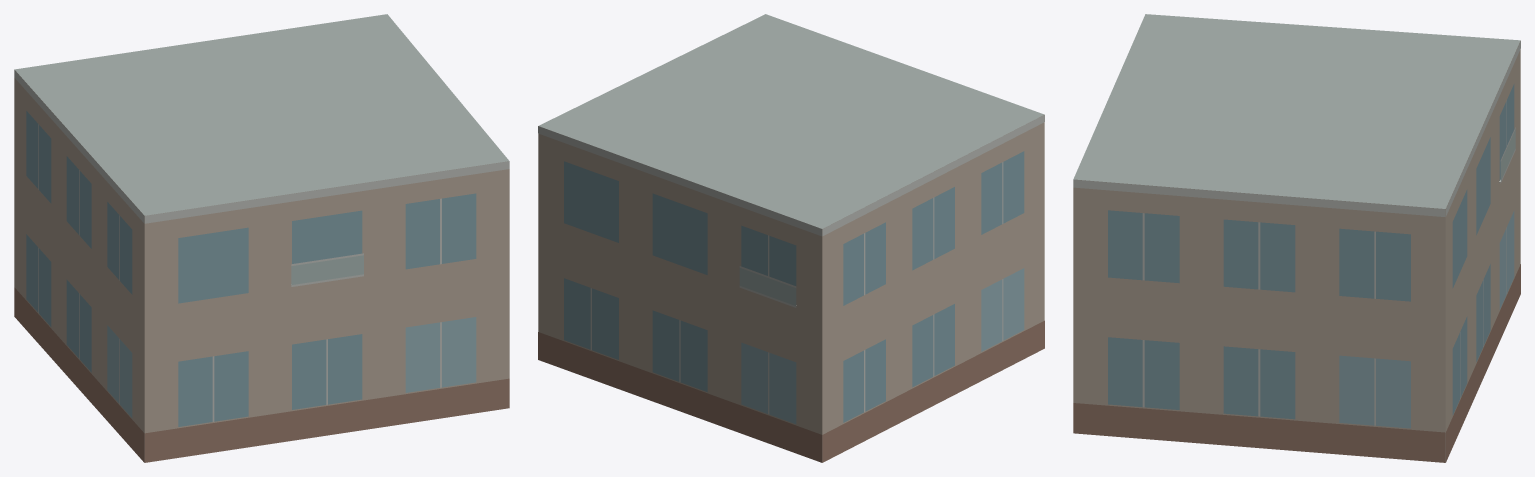
File: survey-upis-32519691.glb
3 renders of one model, left to right at view 1: azimuth 30°, elevation 25°; view 2: azimuth 150°, elevation 25°; view 3: azimuth 270°, elevation 25°, orthographic. The views are drawn at different scales.
Parts seen in each view (by area): view 1: survey-upis-32519691.tmp; view 2: survey-upis-32519691.tmp; view 3: survey-upis-32519691.tmp.
Boxes of the visible parts, <box> form: survey-upis-32519691.tmp: <box>14,14,509,462</box>; survey-upis-32519691.tmp: <box>538,14,1044,462</box>; survey-upis-32519691.tmp: <box>1073,14,1520,462</box>.
Bounding box in the file's own units: 12.53 × 7.6 × 12.15.
